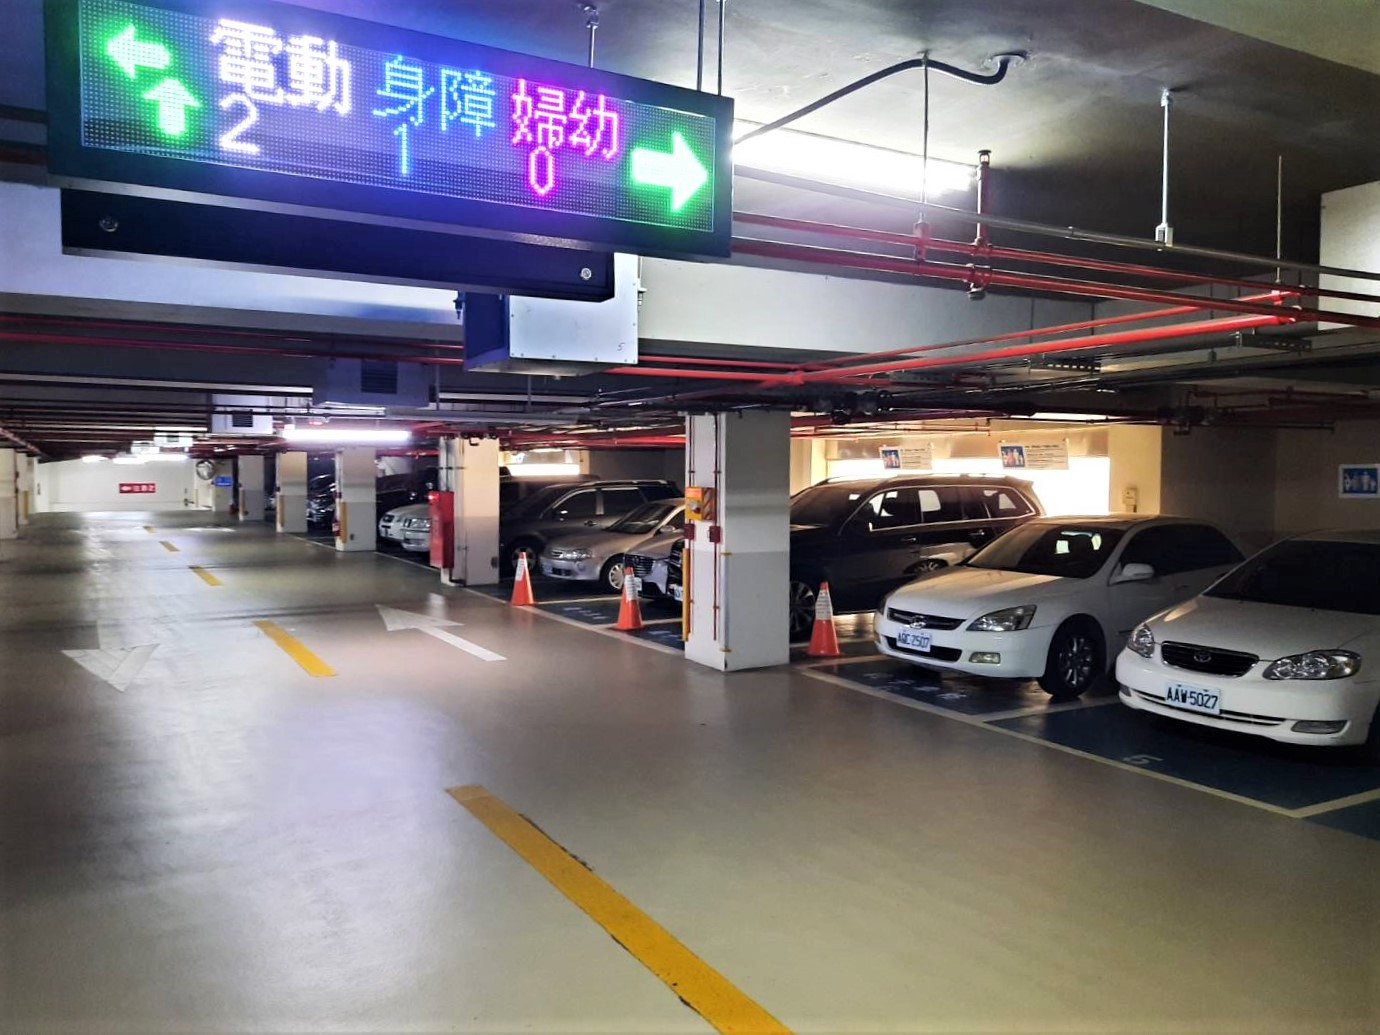car: (873, 499, 1263, 695), (1114, 538, 1380, 772), (667, 466, 1045, 629), (539, 510, 678, 585), (506, 475, 645, 548), (304, 486, 337, 536), (380, 497, 409, 549), (402, 504, 427, 557)
